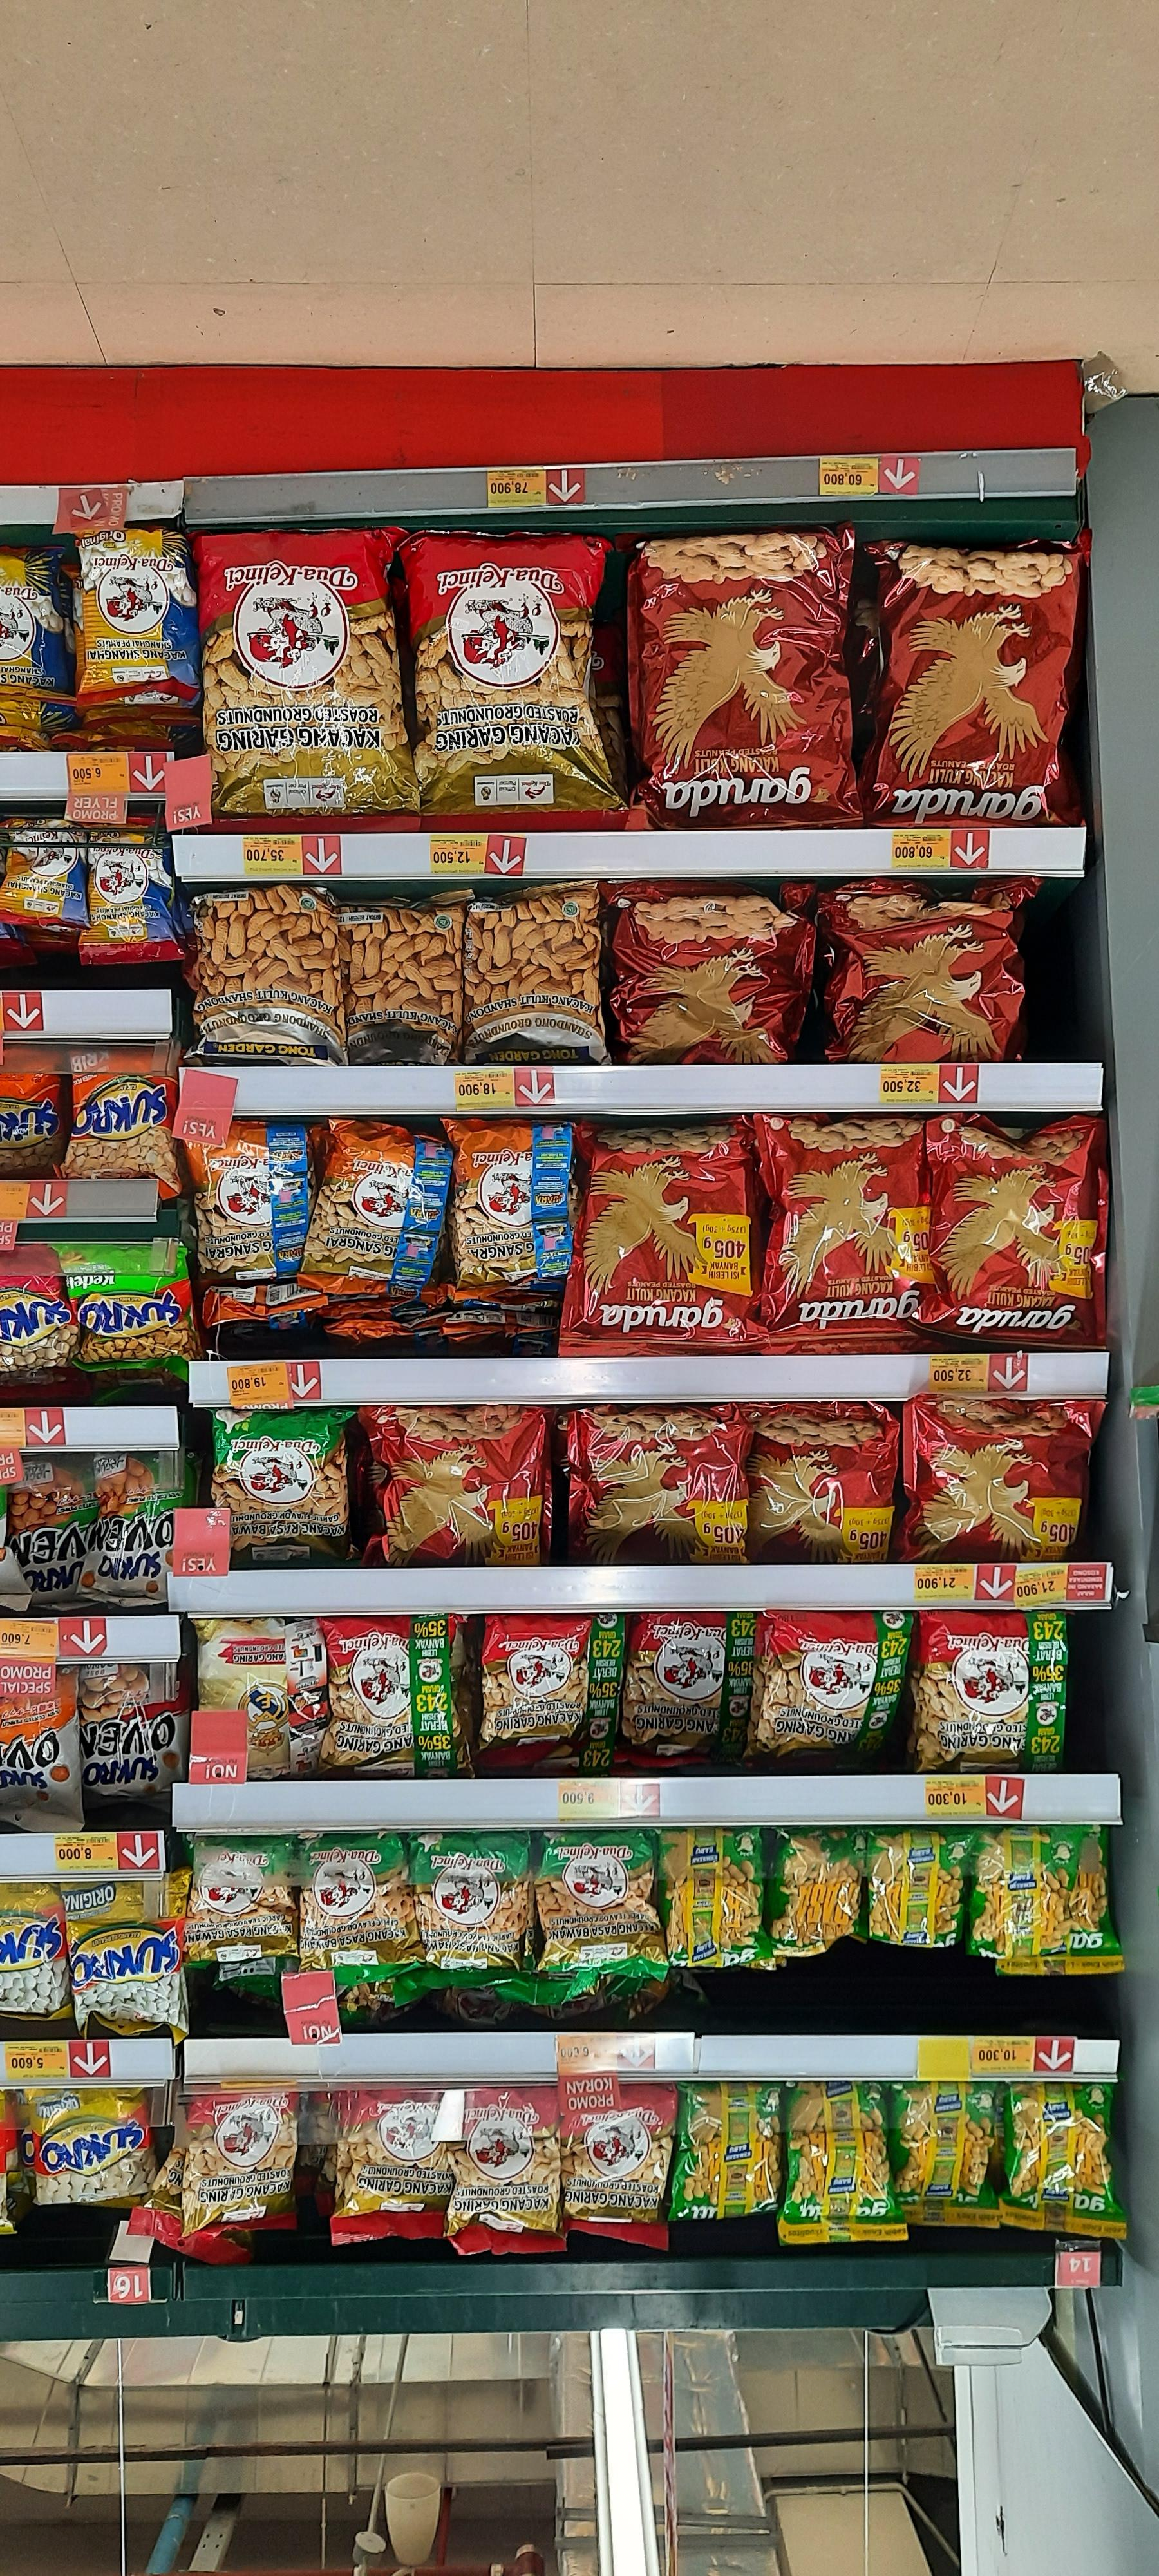90101112101100: (627, 527, 854, 831), (860, 537, 1087, 826), (565, 1119, 758, 1355), (563, 1117, 757, 1354), (924, 1114, 1108, 1345), (757, 1115, 932, 1354), (901, 1398, 1093, 1562), (358, 1408, 552, 1571), (778, 2080, 909, 2242), (998, 2078, 1125, 2238), (883, 2081, 1000, 2228), (660, 1830, 773, 1968), (670, 2081, 781, 2221), (969, 1824, 1075, 1955), (768, 1824, 864, 1957), (868, 1827, 967, 1948)
DuaKelinciKacangGaring: (744, 1610, 911, 1768), (908, 1610, 1064, 1773), (323, 1615, 466, 1779), (478, 1617, 621, 1776), (621, 1612, 755, 1766)
DuaKelinciKacangGaring60g: (445, 2083, 561, 2238), (182, 2095, 297, 2236), (563, 2078, 673, 2224), (335, 2086, 451, 2216)
DuaKelinciKacangGaring750g: (401, 531, 629, 830), (197, 531, 415, 818)
DuaKelinciKacangRasaBawang: (212, 1408, 350, 1567), (535, 1830, 663, 1971), (405, 1832, 530, 1971), (299, 1832, 409, 1973), (186, 1833, 297, 1970)
DuaKelinciKacangSangrai: (307, 1114, 451, 1275), (445, 1115, 571, 1298), (186, 1115, 310, 1280)
DuaKelinciKacangShangHaiOriginal: (74, 529, 200, 690), (82, 826, 176, 958)
DuaKelinciKacangSukroOriginal: (62, 1879, 189, 2040), (25, 2086, 151, 2203)
DuaKelinciSukroKribo: (59, 1046, 176, 1178)
DuaKelinciSukroOvenRasaBawang: (80, 1663, 184, 1794)
DuaKelinciSukroOvenRasaJagungBakar: (77, 1452, 187, 1600)
DuaKelinciSukroRasaKedelai: (71, 1242, 190, 1372)
TongGardenKacangKulitShandong: (182, 885, 343, 1065), (460, 879, 604, 1066), (461, 881, 604, 1068), (343, 894, 468, 1061)
